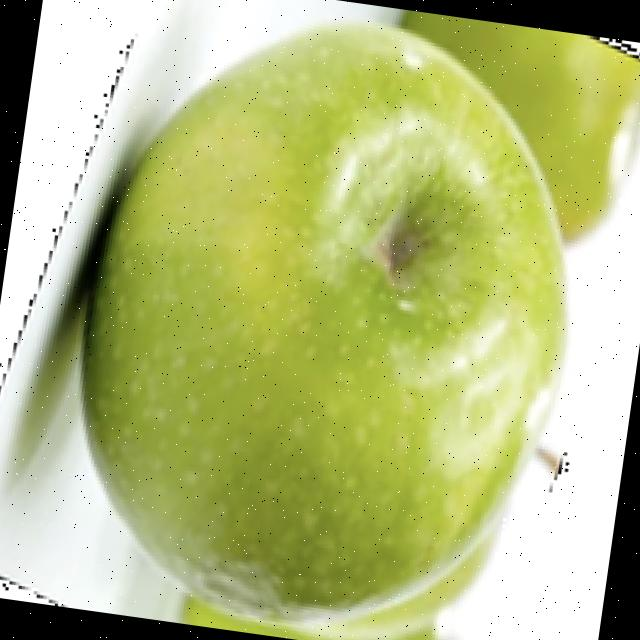apple: (0, 7, 640, 640)
